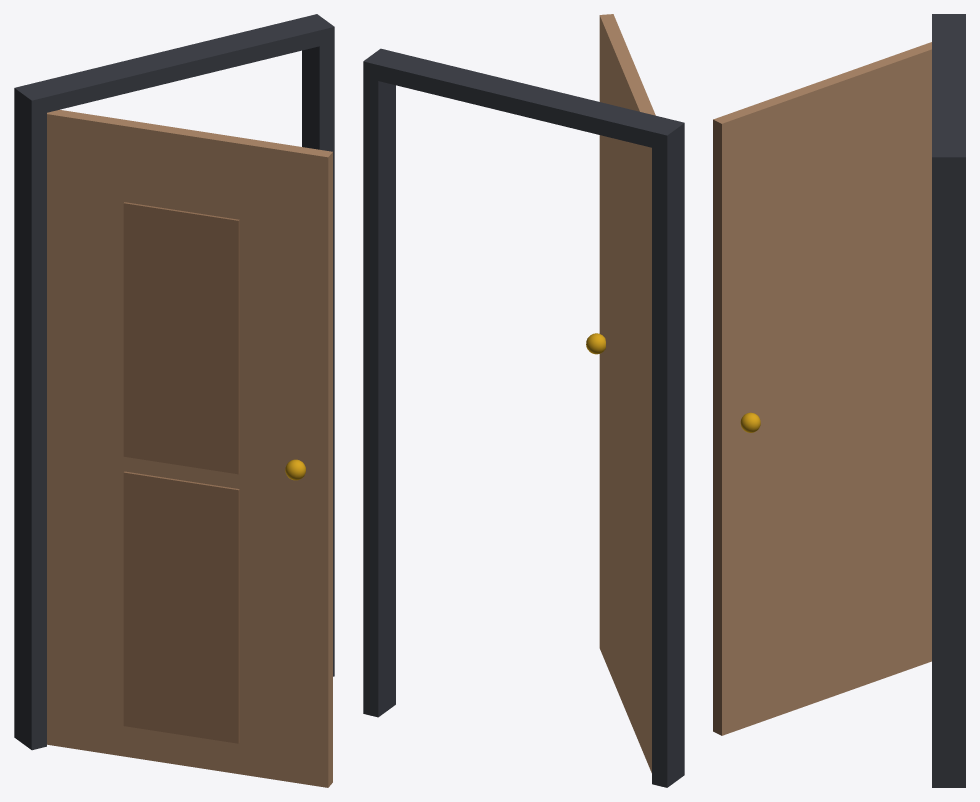
Rendered from door_half.glb.
The picture shows the model from 3 angles, left to right: view 1: azimuth 30°, elevation 25°; view 2: azimuth 150°, elevation 25°; view 3: azimuth 270°, elevation 25°; orthographic projection. The views are drawn at different scales.
Visible parts, largest first — view 1: box (×6); view 2: box (×4); view 3: box (×3).
Part boxes in pixels (x1,y1,x2,y2): box (×6): [14, 14, 334, 787]; box (×4): [363, 14, 684, 787]; box (×3): [713, 14, 965, 787].
Size of the model in its own units: 1 by 2.05 by 0.7446.
